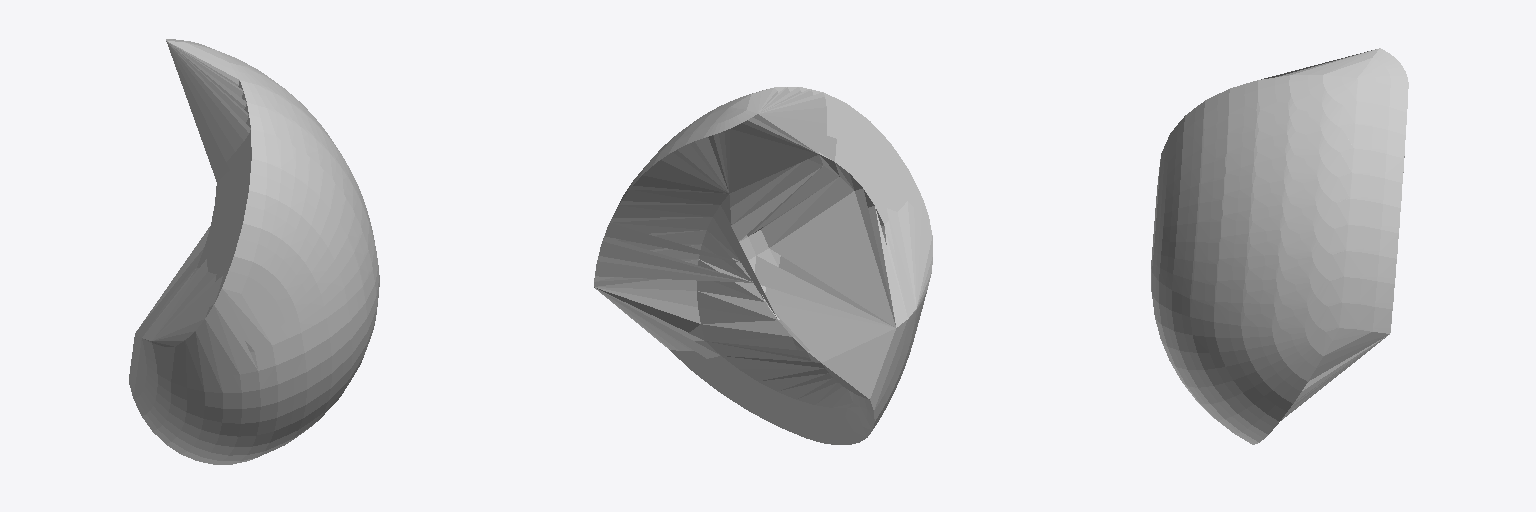
The model's file is thumb_workspace_concave_hull.obj.
The picture shows the model from 3 angles: view 1: azimuth 30°, elevation 25°; view 2: azimuth 150°, elevation 25°; view 3: azimuth 270°, elevation 25°; orthographic projection.
Bounding box in the file's own units: 0.1733 × 0.2455 × 0.1521.